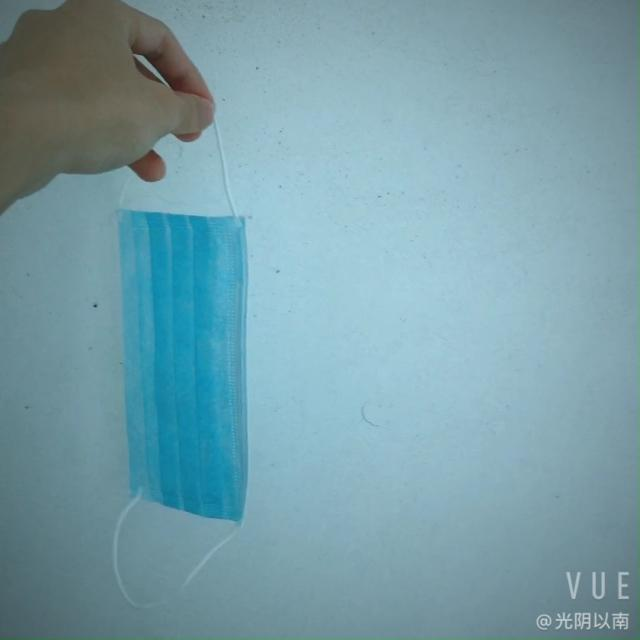non-organic waste: (102, 200, 268, 522)
